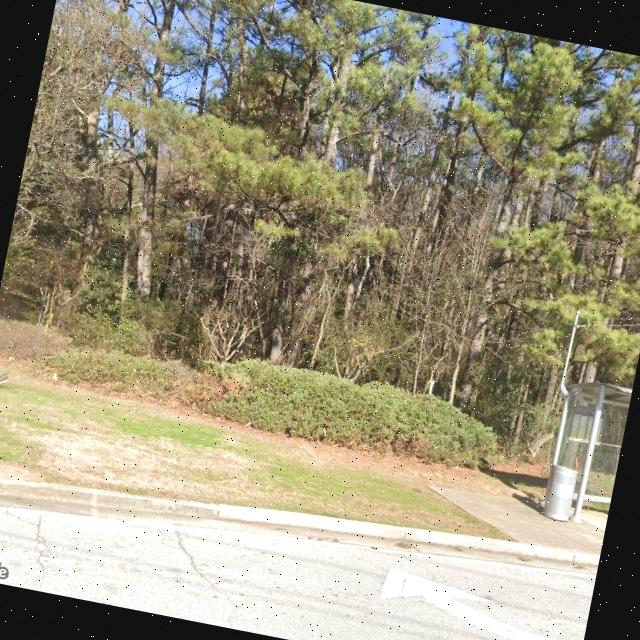shelter: (539, 374, 633, 529)
trash_can: (541, 462, 580, 524)
